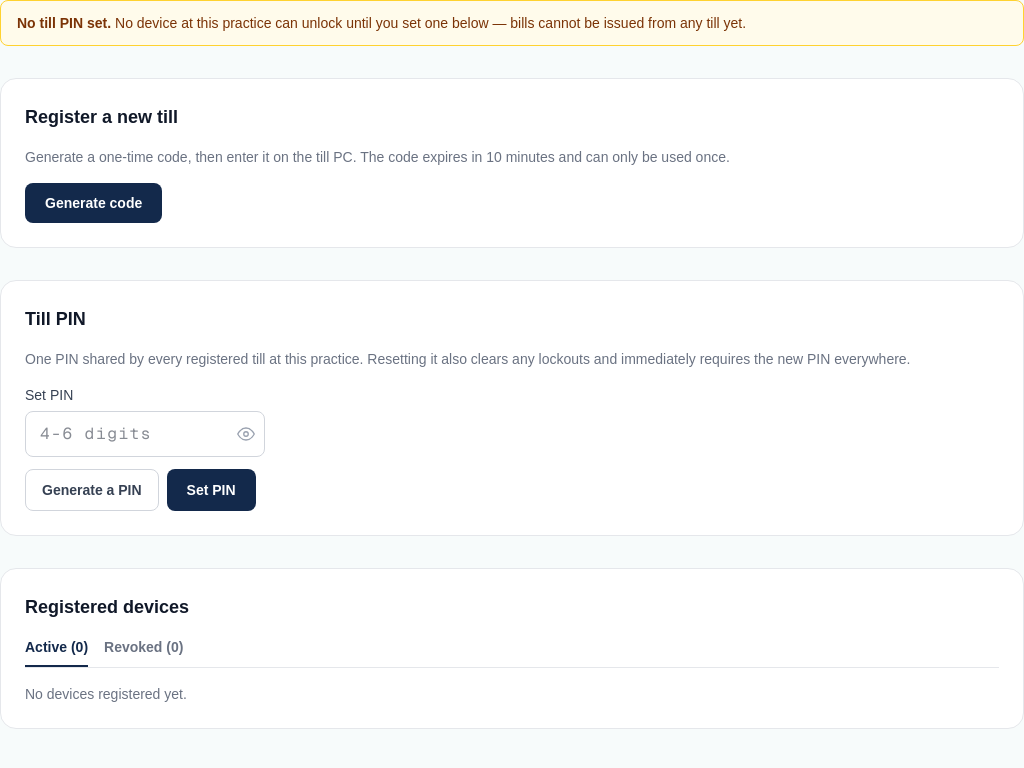
Test: DeviceAdminView — Set PIN vs Reset PIN label › reads "Set PIN" before a first save even after using the generator
Click the button with test id "till-pin-generate" at {"x": 92, "y": 490}, box [25, 469, 159, 511]
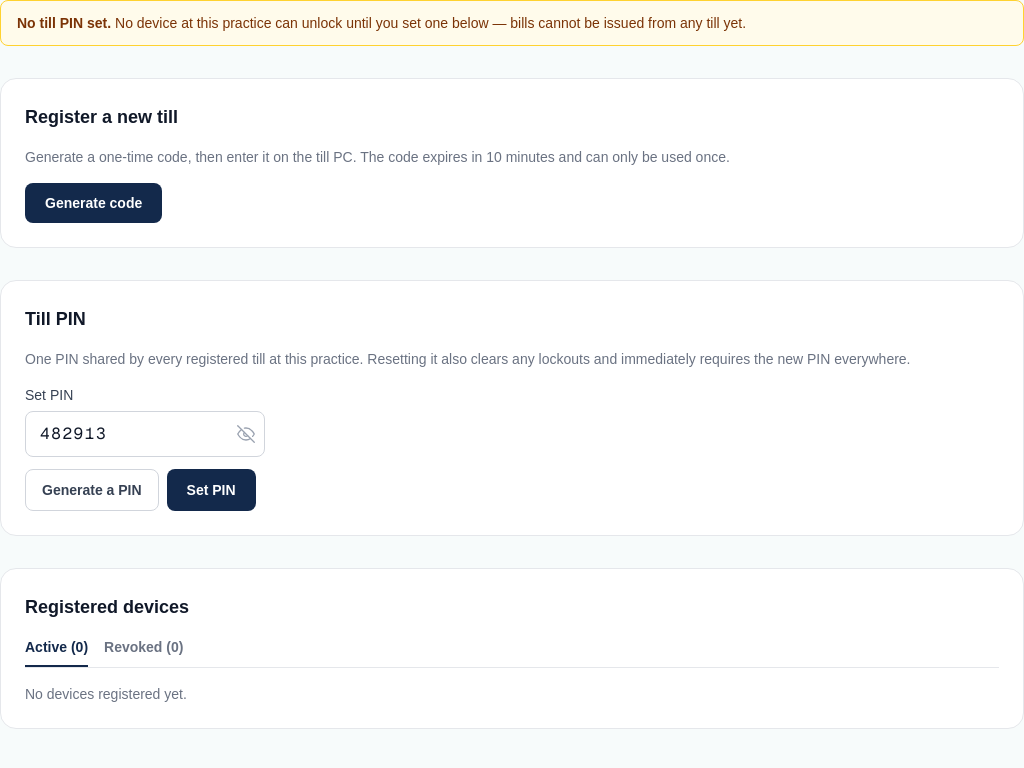
Check: the button with test id "till-pin-submit" reads "Set PIN", box [167, 469, 256, 511]
Check: the field with test id "till-pin-input" holds "482913", box [25, 411, 265, 457]
